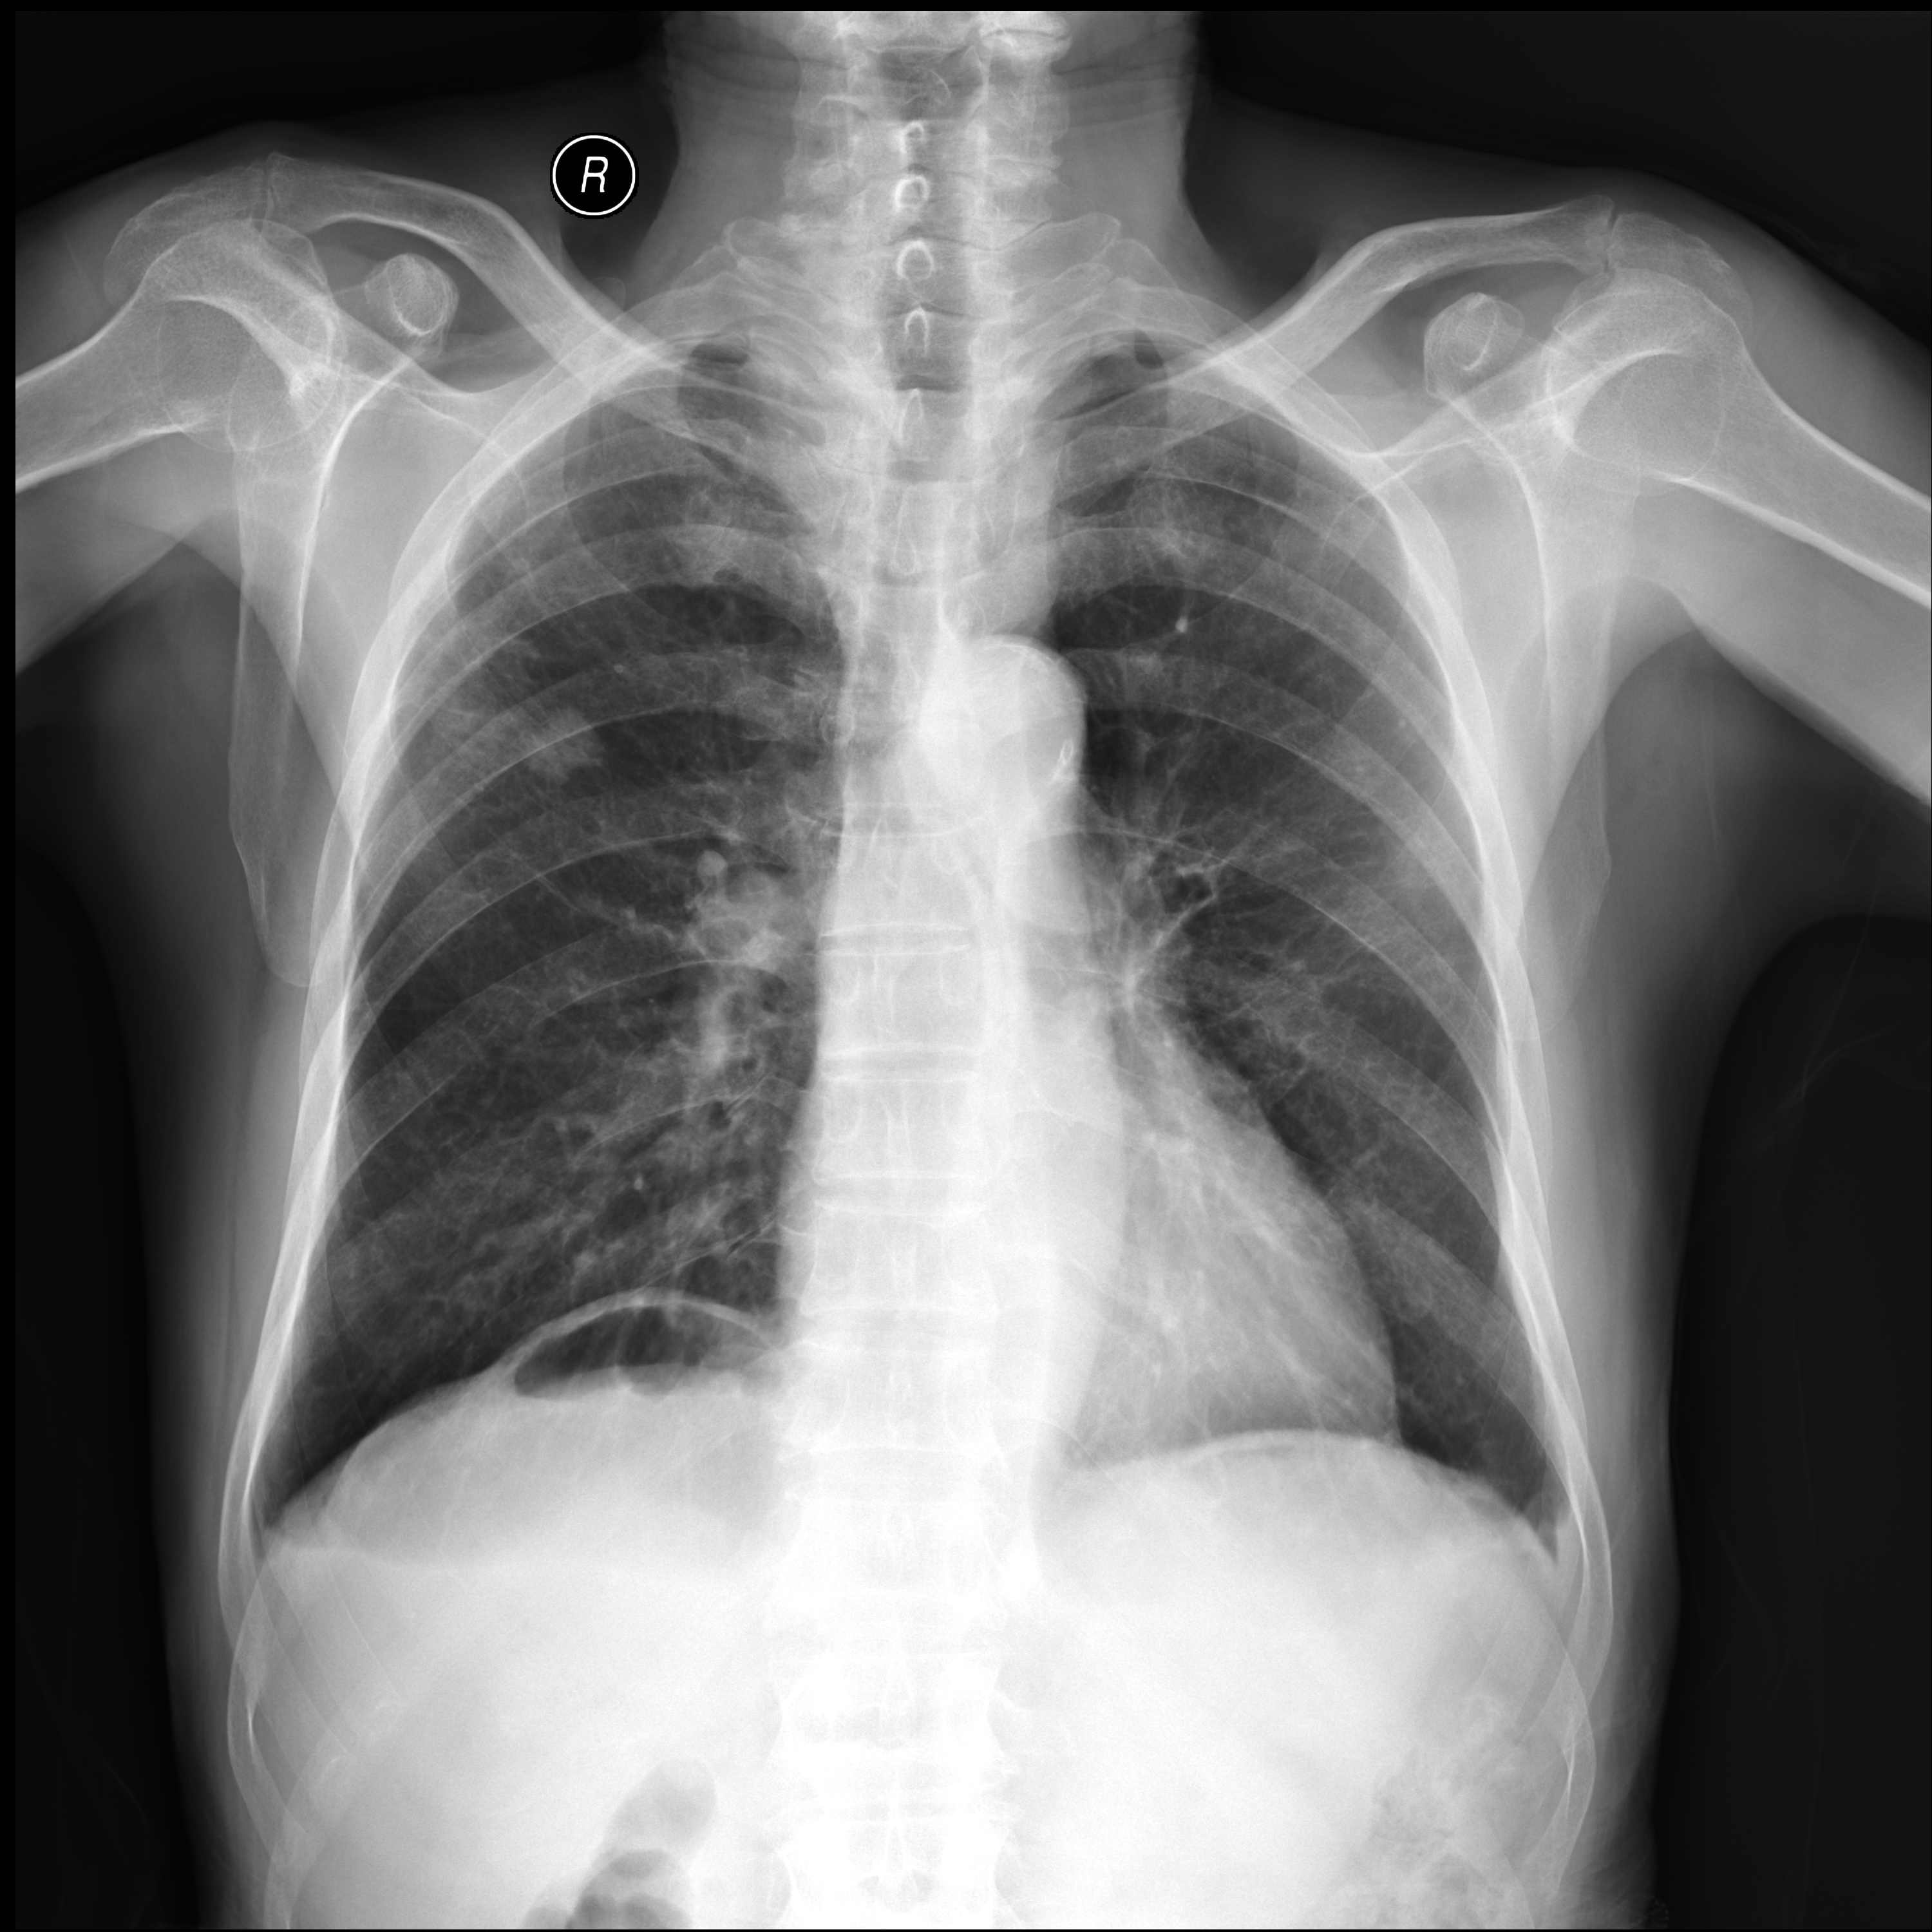nodule: (469, 674, 646, 807)
